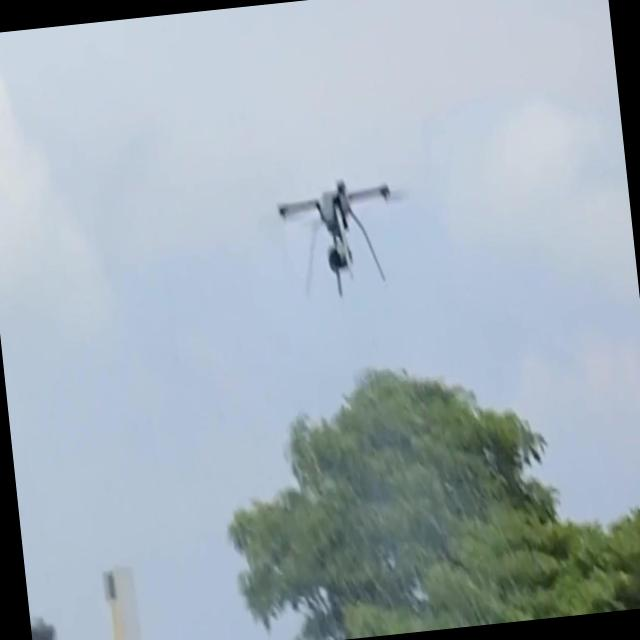drone: (271, 172, 408, 304)
